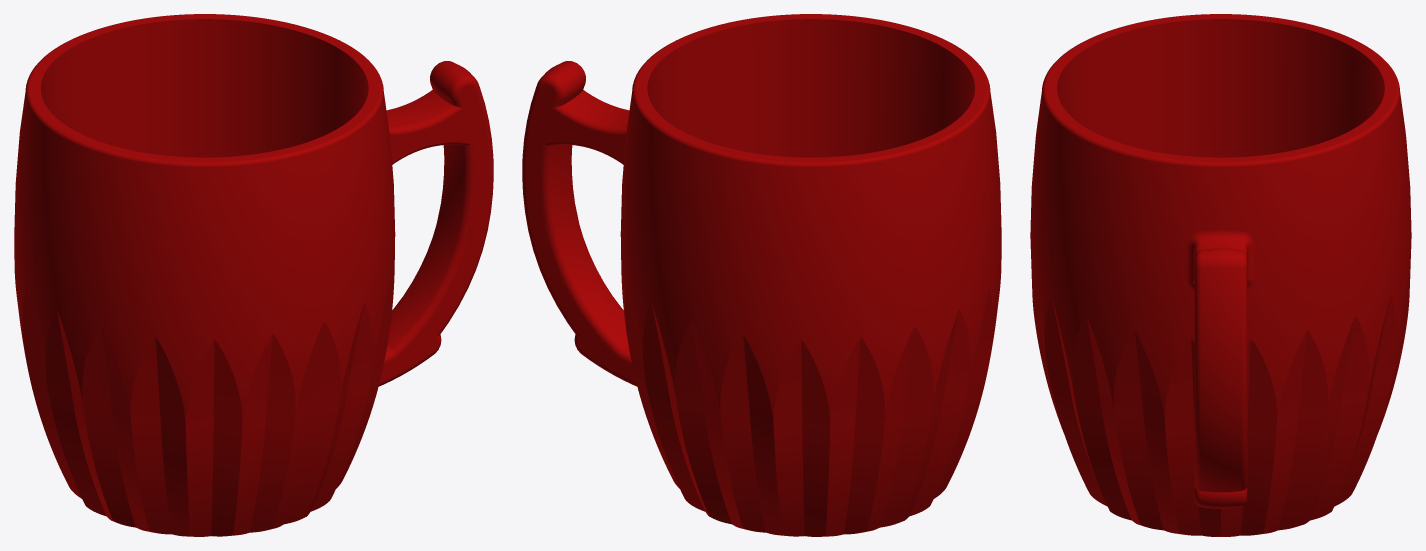
File: CM-MUG038.glb
3 renders of one model, left to right at view 1: azimuth 30°, elevation 25°; view 2: azimuth 150°, elevation 25°; view 3: azimuth 270°, elevation 25°, orthographic.
Size of the model in its own units: 0.0974 by 0.0825 by 0.0722.
